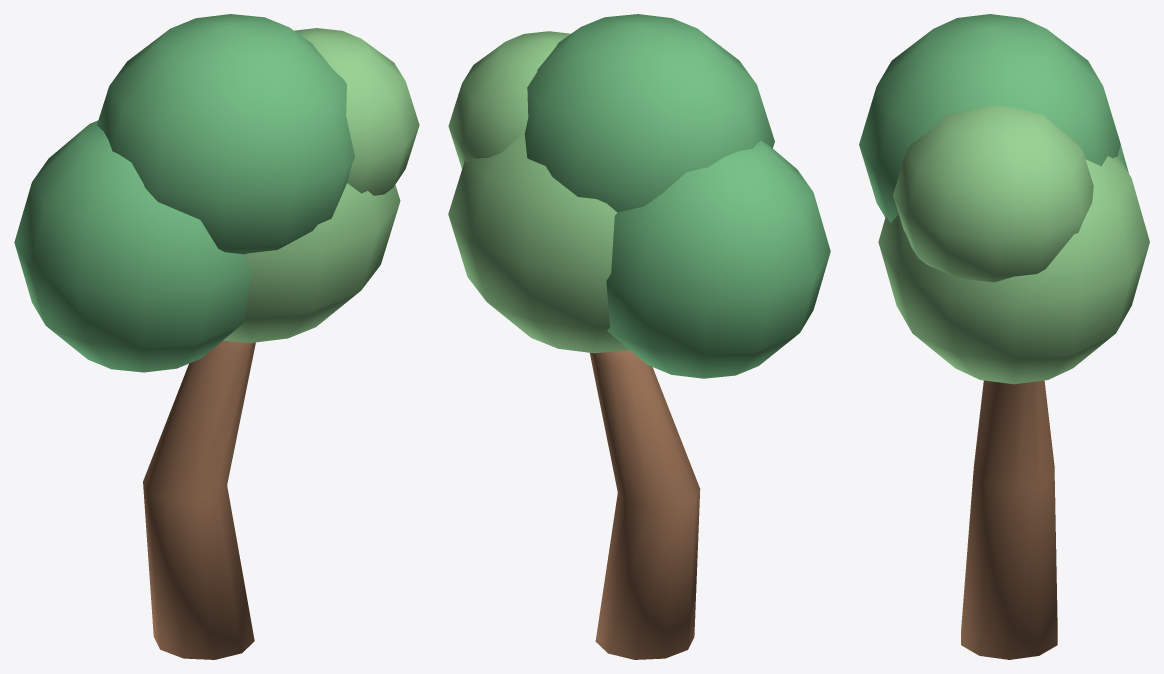
File: Storybook_Tree_B.fbx
The picture shows the model from 3 angles, left to right: view 1: azimuth 30°, elevation 25°; view 2: azimuth 150°, elevation 25°; view 3: azimuth 270°, elevation 25°; orthographic projection. The views are drawn at different scales.
Parts seen in each view (by area): view 1: Foliage.009, Foliage.007, Trunk.003, Foliage.008, Foliage.010; view 2: Foliage.007, Foliage.009, Trunk.003, Foliage.008, Foliage.010; view 3: Foliage.008, Foliage.010, Foliage.009, Trunk.003.
Boxes of the visible parts, <box> form: Foliage.009: <box>97,14,354,254</box>; Foliage.007: <box>14,120,251,372</box>; Trunk.003: <box>143,340,255,659</box>; Foliage.008: <box>223,183,400,342</box>; Foliage.010: <box>294,28,419,195</box>; Foliage.007: <box>606,141,830,378</box>; Foliage.009: <box>524,14,774,212</box>; Trunk.003: <box>590,350,700,659</box>; Foliage.008: <box>448,134,629,353</box>; Foliage.010: <box>448,31,570,168</box>; Foliage.008: <box>878,155,1149,384</box>; Foliage.010: <box>893,105,1093,282</box>; Foliage.009: <box>859,14,1120,223</box>; Trunk.003: <box>961,380,1057,659</box>.
Bounding box in the file's own units: 1.76 × 2.81 × 1.2.
